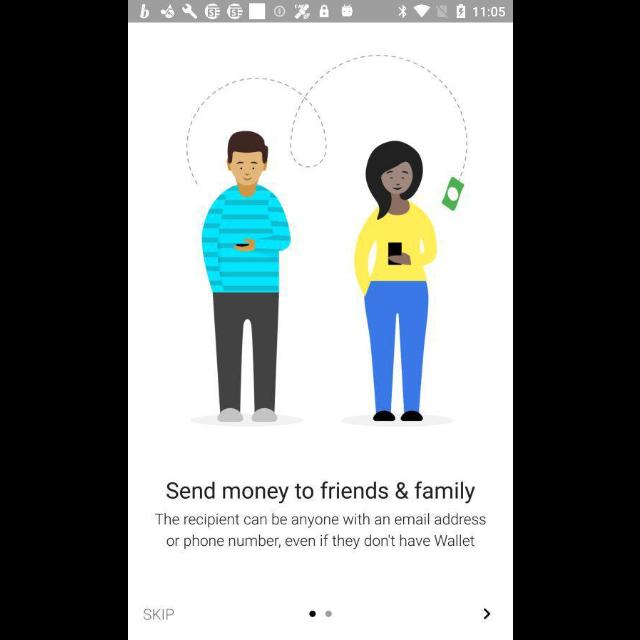icon: (482, 608, 490, 620)
image: (186, 55, 468, 428)
pageindicator: (308, 610, 332, 618)
text: (154, 512, 486, 550), (165, 480, 475, 504), (142, 607, 174, 621)
uppertaskbar: (128, 1, 512, 23)
